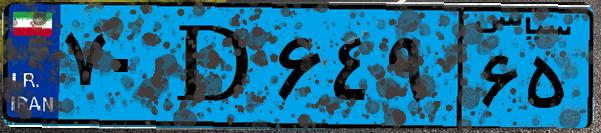0: (110, 28, 158, 98)
4: (330, 28, 385, 110)
5: (525, 38, 570, 115)
6: (270, 28, 330, 110), (475, 38, 525, 113)
7: (57, 26, 110, 100)
9: (385, 28, 445, 110)
D: (158, 12, 270, 120)
